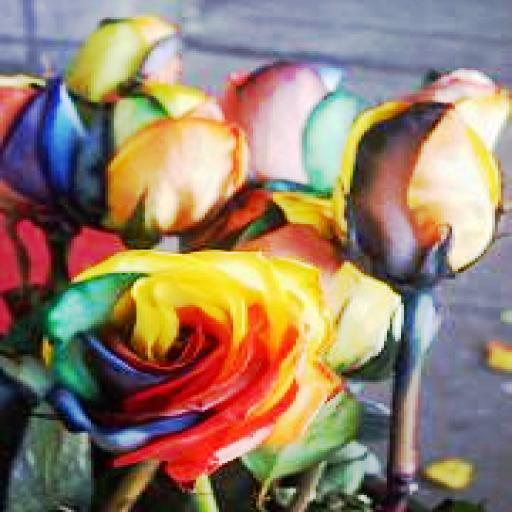rose: (43, 250, 330, 472), (350, 102, 500, 280)
